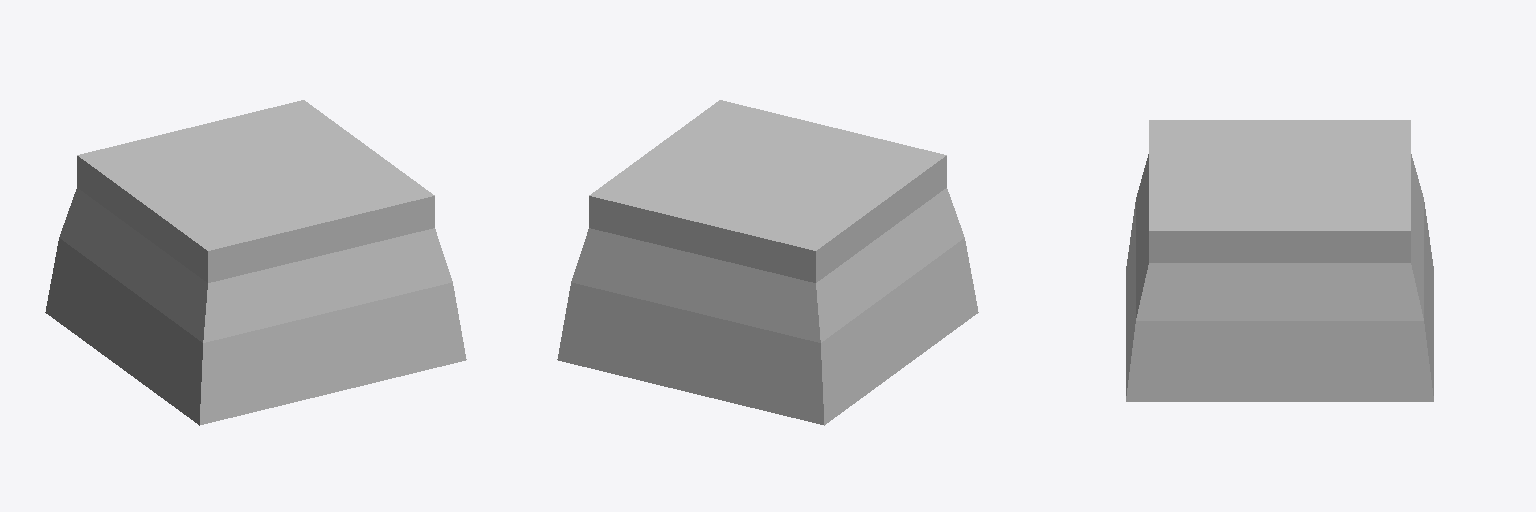
File: tile_042.obj
3 views of the same model, side by side, from view 1: azimuth 30°, elevation 25°; view 2: azimuth 150°, elevation 25°; view 3: azimuth 270°, elevation 25° (orthographic).
Visible parts, largest first — view 1: tile_042; view 2: tile_042; view 3: tile_042.
Part boxes in pixels (bbox=[...]): tile_042: bbox=[45, 100, 466, 425]; tile_042: bbox=[557, 100, 978, 425]; tile_042: bbox=[1126, 120, 1433, 401].
Size of the model in its own units: 0.6945 by 0.4 by 0.6945.